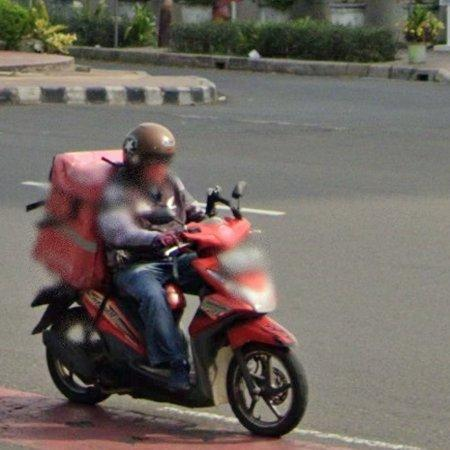motorcycles: (33, 209, 308, 437)
